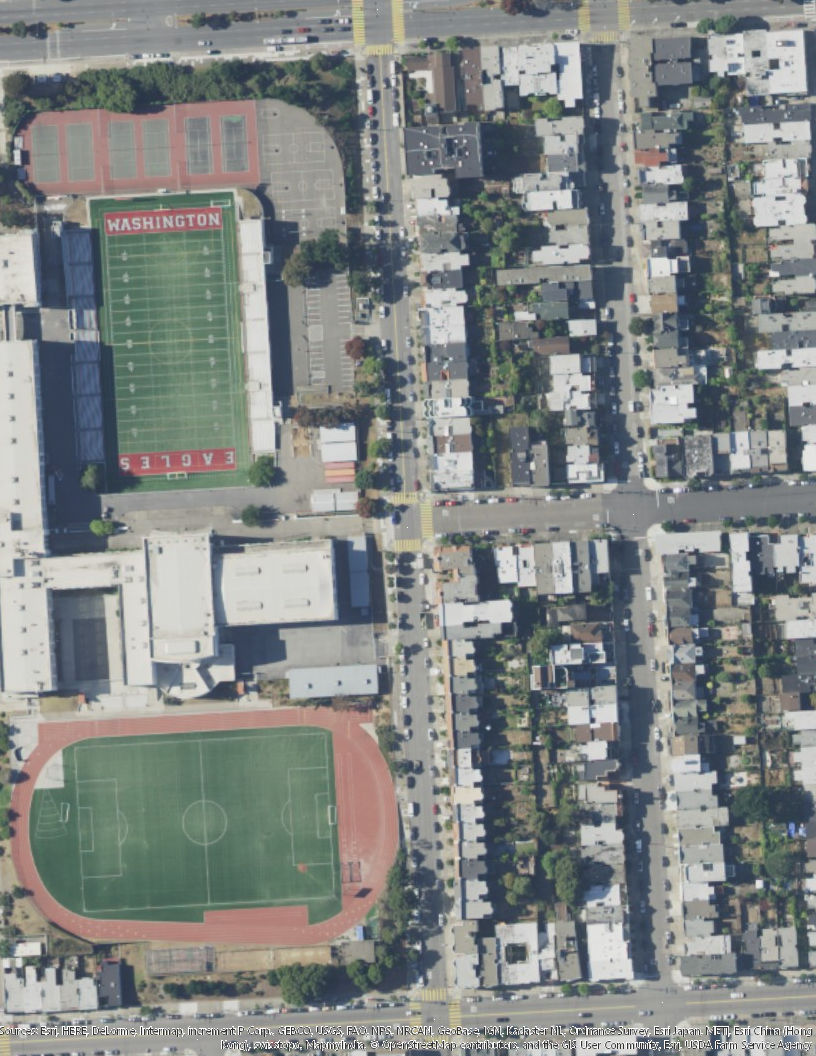zebracross: (349, 1, 366, 45), (390, 1, 407, 44), (420, 503, 435, 539), (615, 1, 632, 31), (394, 538, 422, 553), (578, 1, 591, 33), (589, 30, 618, 44), (407, 1001, 422, 1028), (419, 988, 449, 1001), (391, 492, 419, 505), (364, 44, 394, 56), (449, 1001, 461, 1029)
